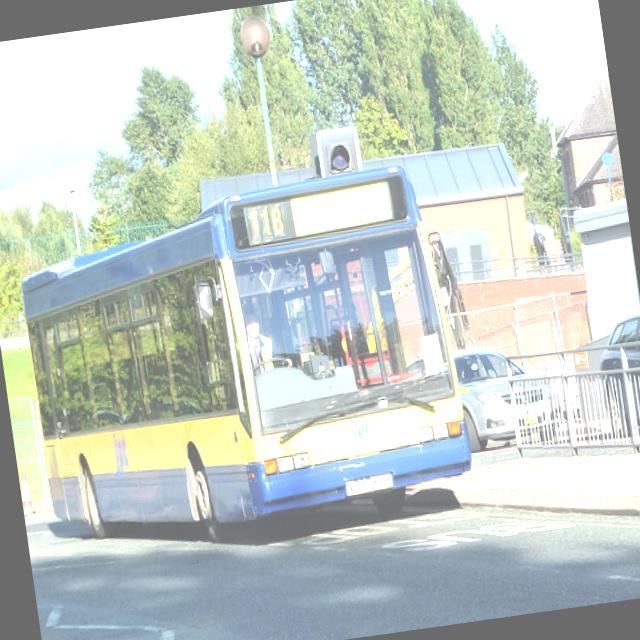Vehicle: (14, 171, 476, 551), (404, 336, 568, 461), (592, 311, 640, 373)
